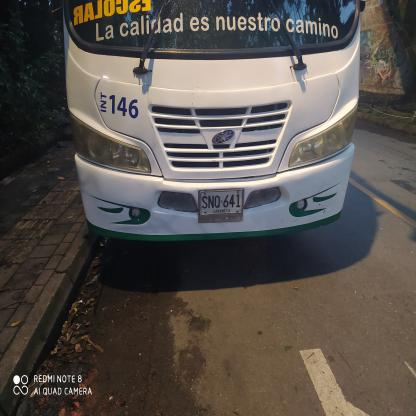placa: (198, 190, 243, 215)
